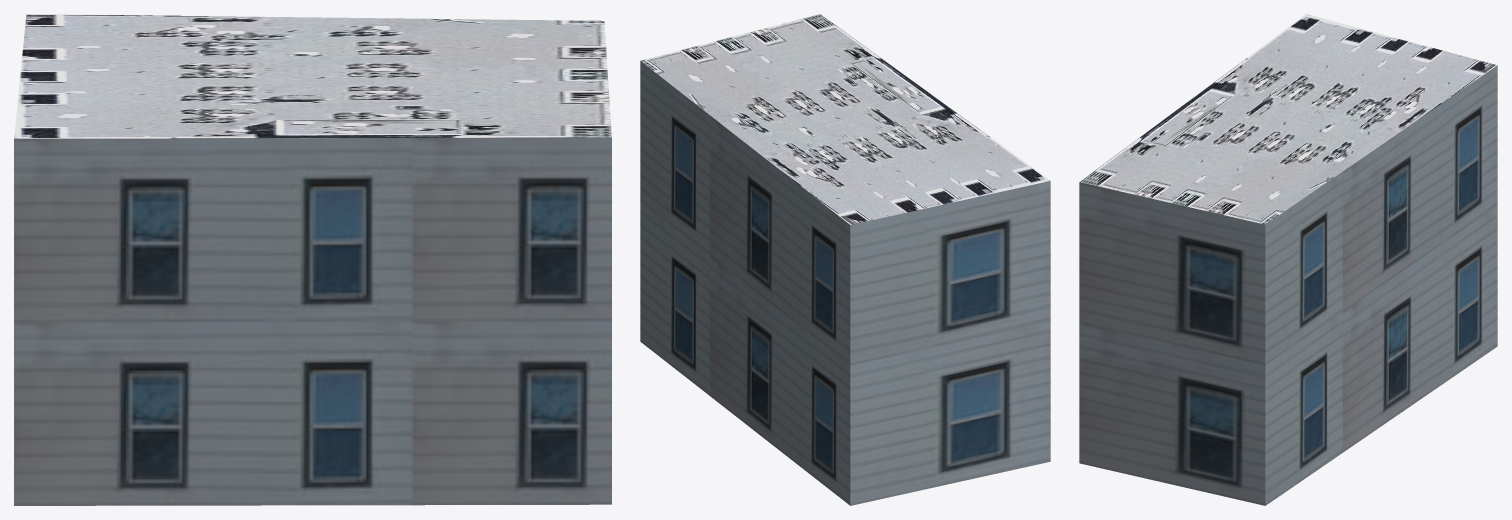
File: ResTex__2250.fbx
3 views of the same model, side by side, from view 1: azimuth 30°, elevation 25°; view 2: azimuth 150°, elevation 25°; view 3: azimuth 270°, elevation 25° (orthographic). The views are drawn at different scales.
Parts seen in each view (by area): view 1: CityEngineMaterial_18_m, CityEngineMaterial_4_m; view 2: CityEngineMaterial_18_m, CityEngineMaterial_4_m; view 3: CityEngineMaterial_18_m, CityEngineMaterial_4_m.
Part boxes in pixels (bbox=[...]): CityEngineMaterial_18_m: bbox=[14, 137, 611, 505]; CityEngineMaterial_4_m: bbox=[14, 14, 611, 138]; CityEngineMaterial_18_m: bbox=[640, 61, 1050, 505]; CityEngineMaterial_4_m: bbox=[640, 14, 1050, 224]; CityEngineMaterial_18_m: bbox=[1079, 65, 1497, 505]; CityEngineMaterial_4_m: bbox=[1080, 14, 1497, 224].
Size of the model in its own units: 9.64 by 6 by 8.09.
Materials: 2 (2 with a texture image).
